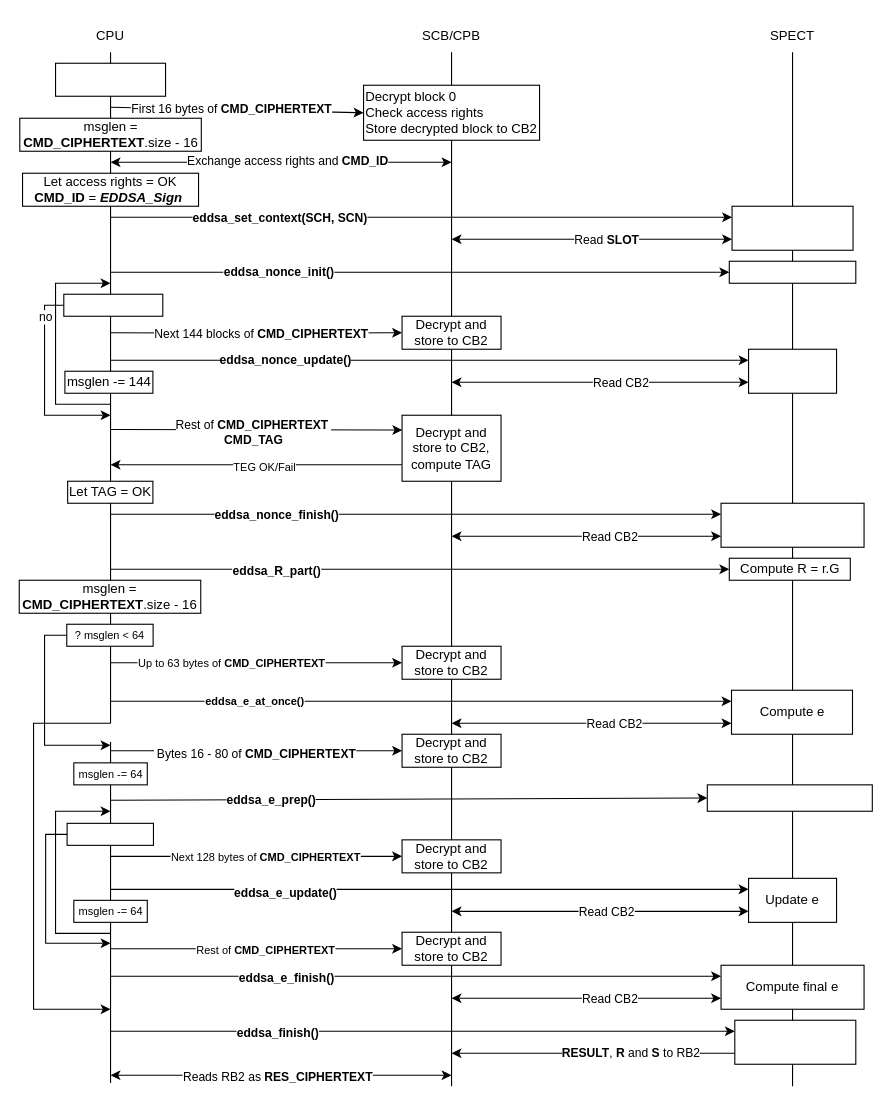
The diagram is 892 pixels wide and 1107 high, and some of its shapes have lost their labels. The shapes that lost their labels are listed below. From the top down, each one's box as (x1, y1, x2, y2) in pixels, then its label:
(54, 62, 166, 96): Receives L3 Command Packet
(731, 205, 853, 250): Set EdDSA context
(728, 260, 856, 283): Init nonce derivation
(63, 293, 163, 316): ? msglen > 144
(747, 348, 837, 393): Nonce update
(720, 502, 864, 547): Compute final nonce r
(706, 784, 872, 811): Prepare for calculation of e
(66, 822, 153, 845): ? msglen > 128
(734, 1019, 856, 1064): Compute S
